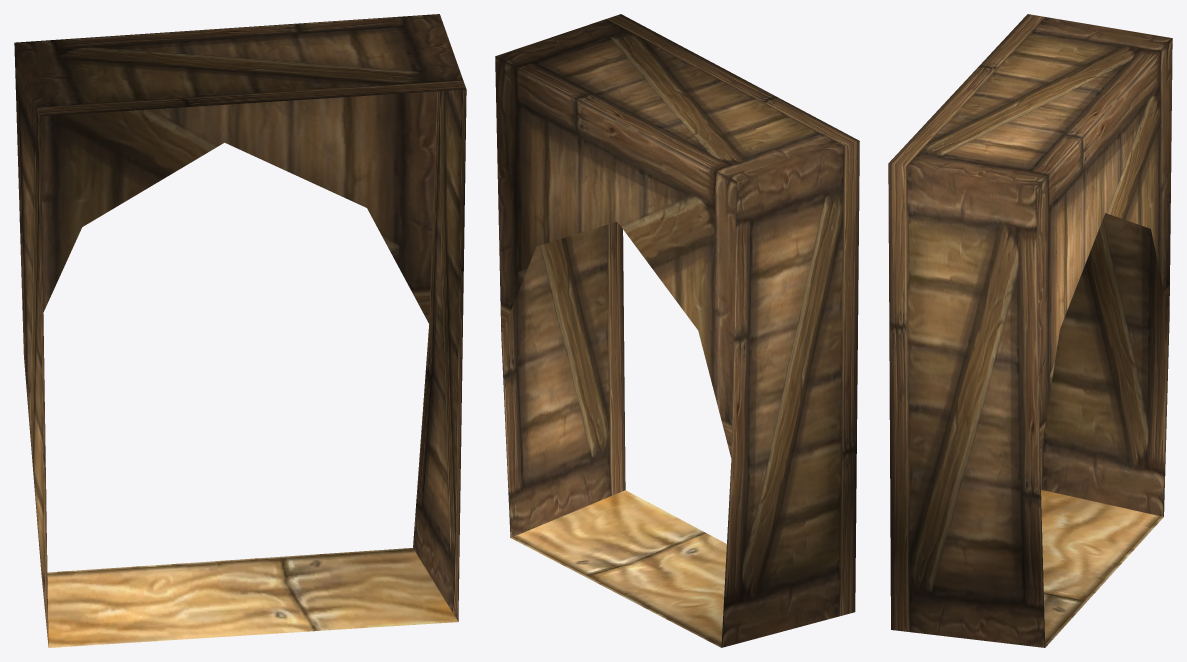
The model's file is stormwind_231.fbx.
3 renders of one model, left to right at view 1: azimuth 30°, elevation 25°; view 2: azimuth 150°, elevation 25°; view 3: azimuth 270°, elevation 25°, orthographic. The views are drawn at different scales.
Parts seen in each view (by area): view 1: stormwind_231_56, stormwind_231_53; view 2: stormwind_231_56, stormwind_231_53; view 3: stormwind_231_56, stormwind_231_53.
Part boxes in pixels (bbox=[...]): stormwind_231_56: bbox=[14, 14, 466, 646]; stormwind_231_53: bbox=[47, 548, 457, 647]; stormwind_231_56: bbox=[495, 14, 859, 647]; stormwind_231_53: bbox=[511, 490, 726, 647]; stormwind_231_56: bbox=[888, 14, 1172, 647]; stormwind_231_53: bbox=[1041, 490, 1163, 647].
Bounding box in the file's own units: 3.63 × 4.56 × 2.5.
